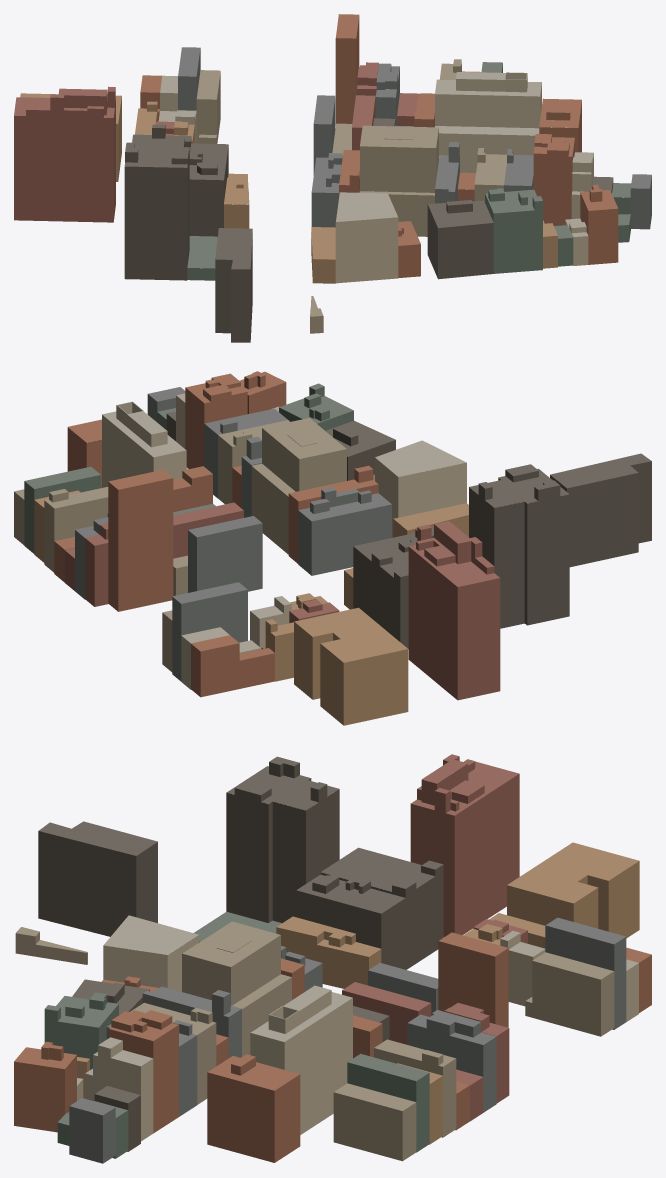
File: tile-1_2.glb
The picture shows the model from 3 angles, top to bottom: view 1: azimuth 30°, elevation 25°; view 2: azimuth 150°, elevation 25°; view 3: azimuth 270°, elevation 25°; orthographic projection. The views are drawn at different scales.
Visible parts, largest first — view 1: wall, roof; view 2: wall, roof; view 3: wall, roof.
Boxes of the visible parts, box(x1,y1,x2,y2) form: wall: box(14, 16, 651, 342); roof: box(14, 14, 651, 316); wall: box(14, 373, 651, 725); roof: box(14, 371, 651, 662); wall: box(14, 756, 651, 1163); roof: box(14, 754, 651, 1125).
Size of the model in its own units: 221 by 55.03 by 212.
